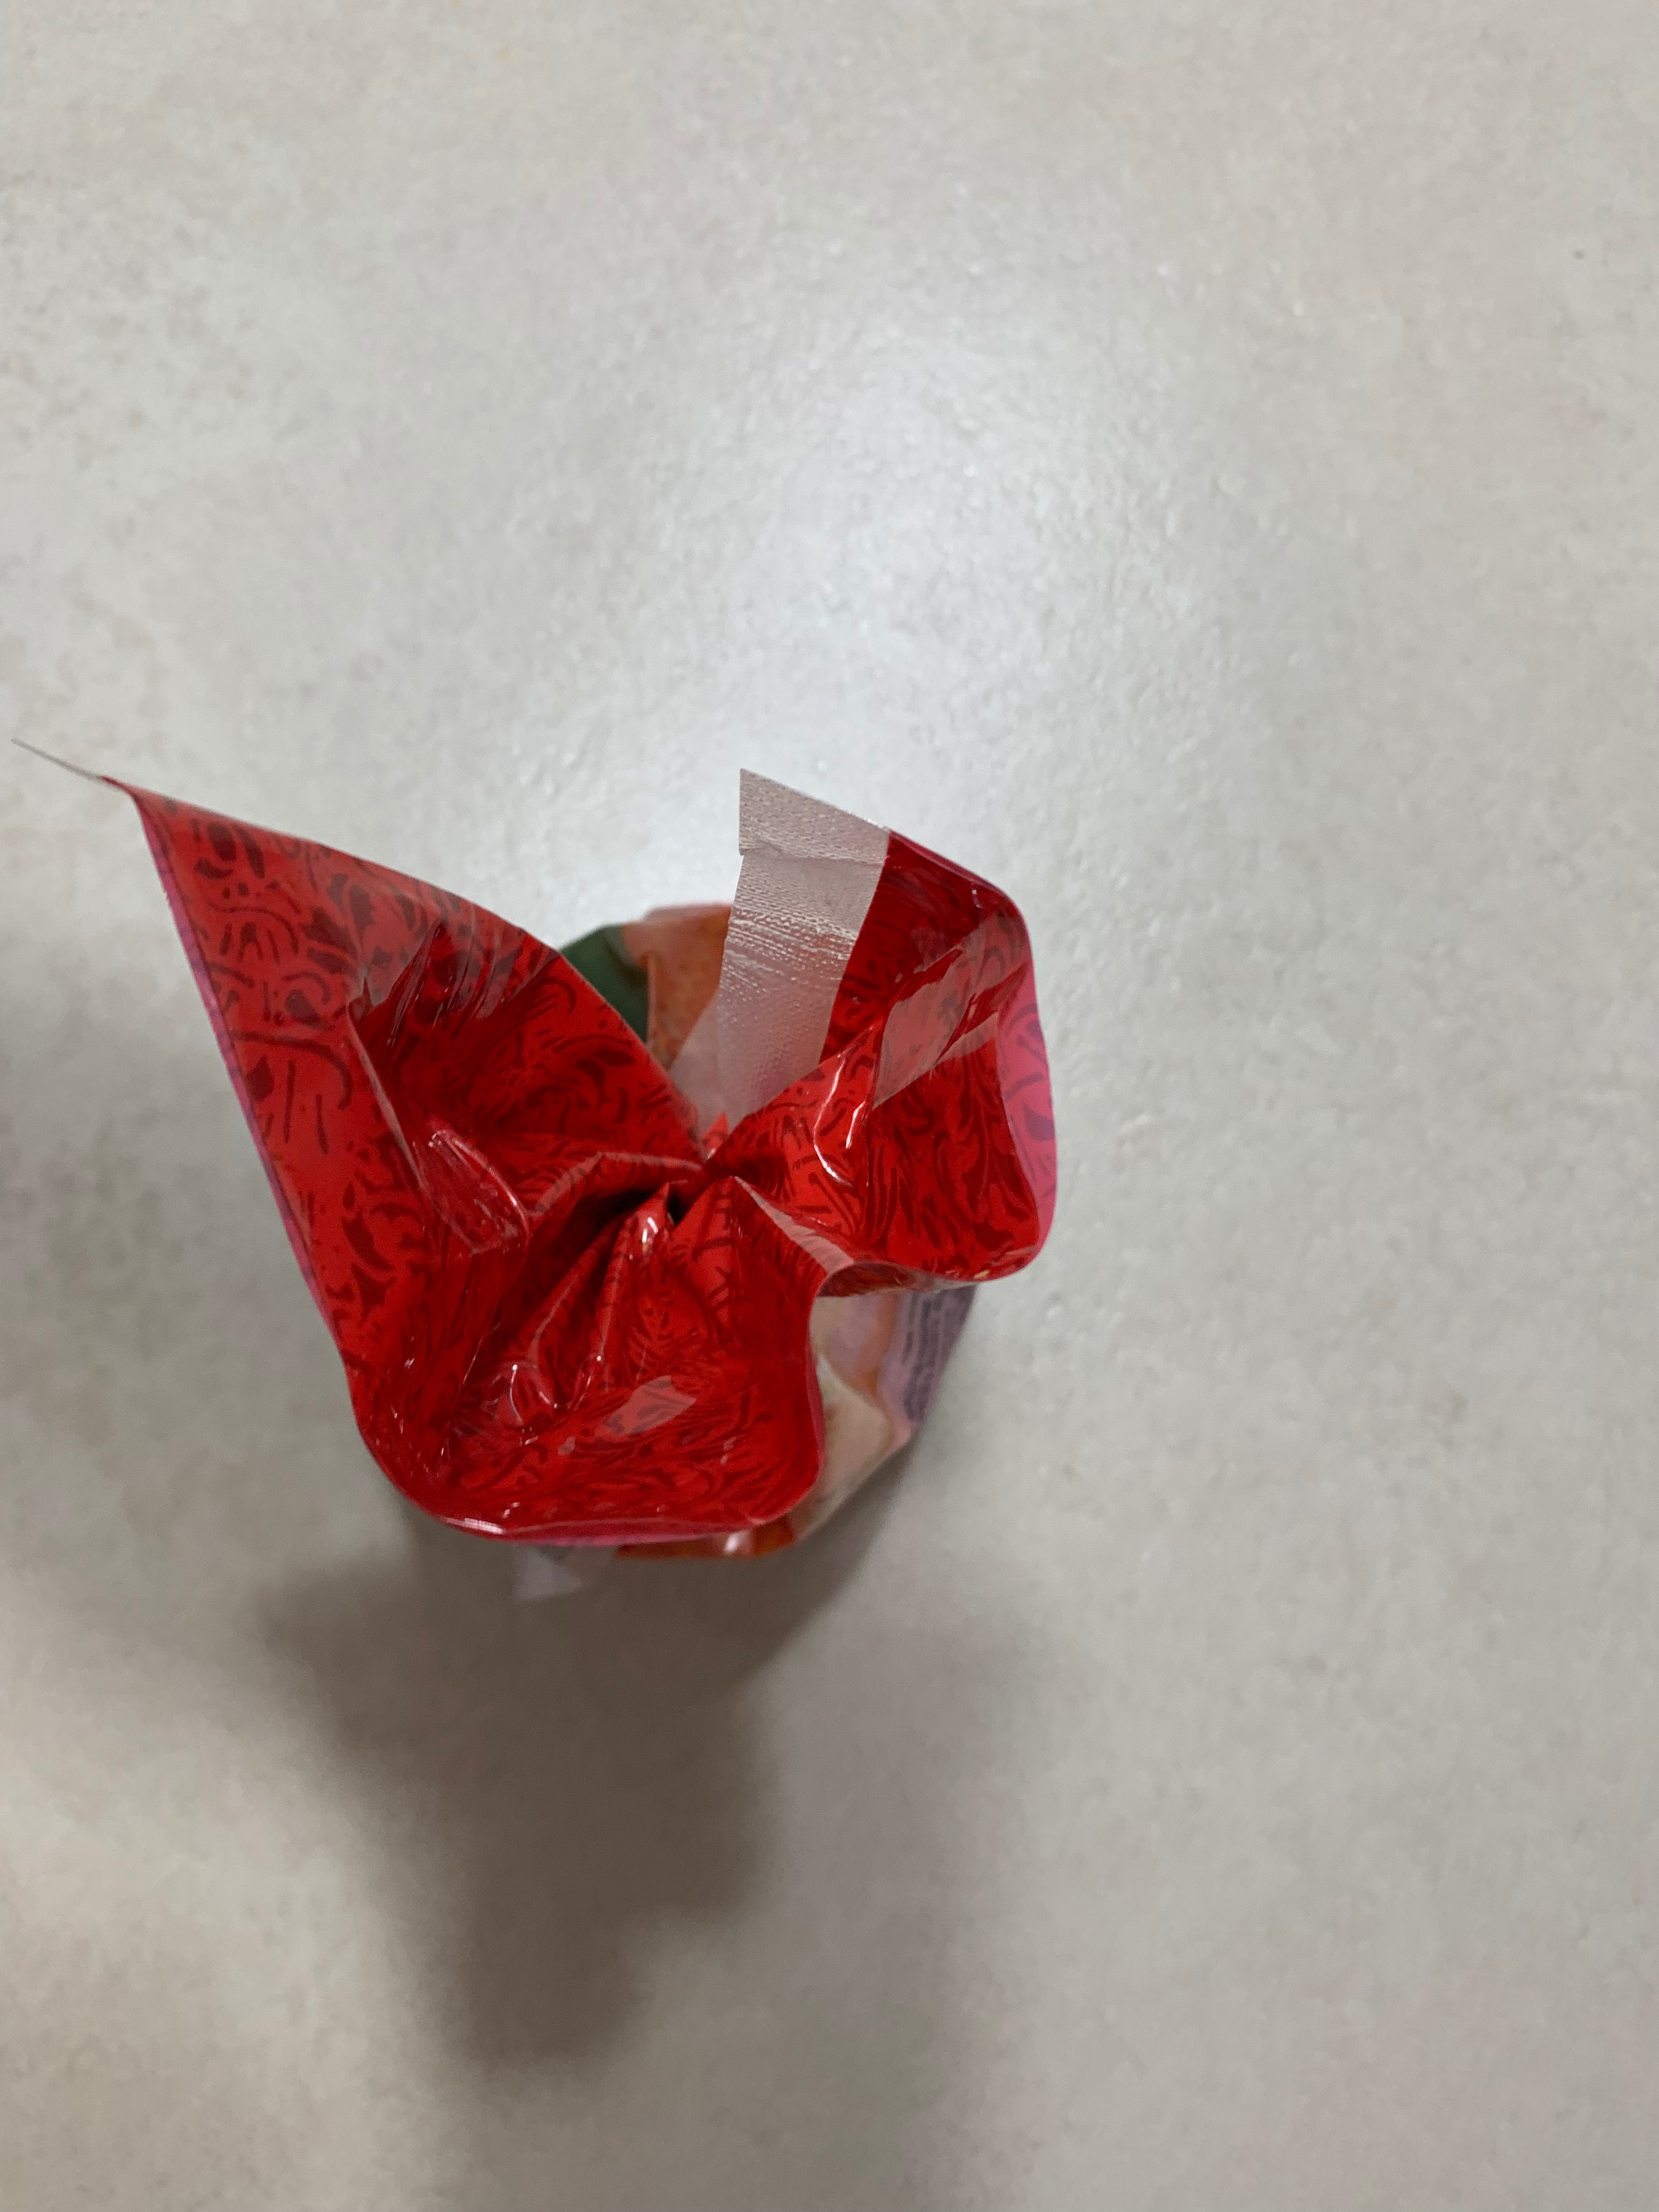kimchi: (124, 768, 1060, 1564)
